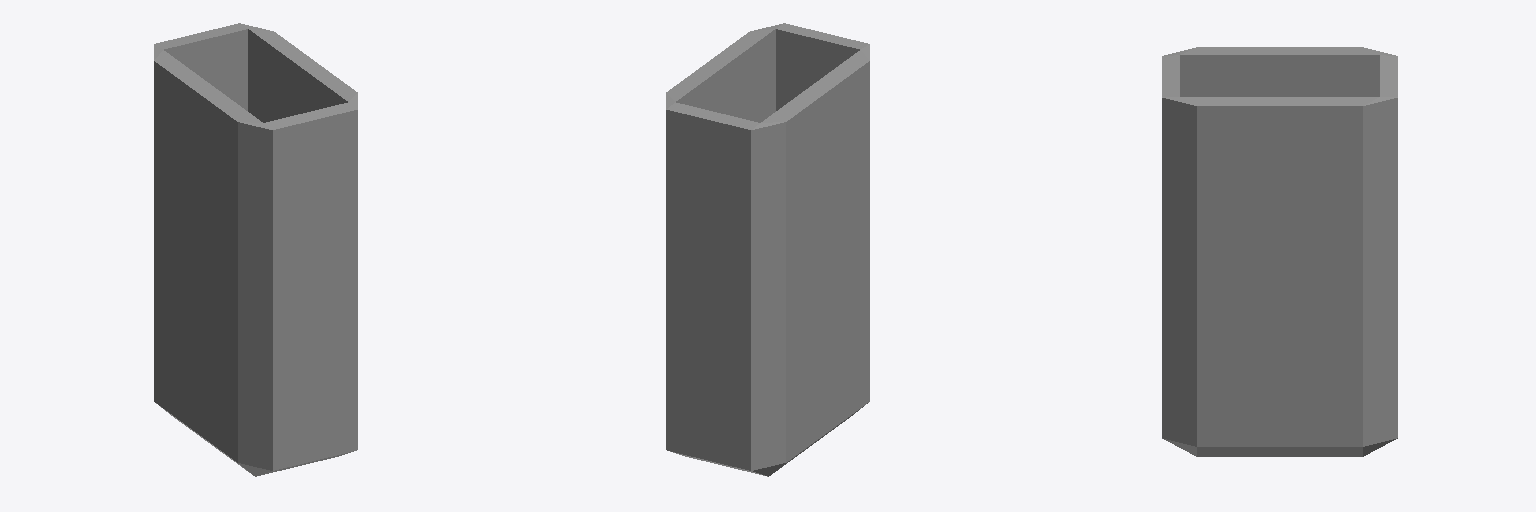
Rendered from square_vase.obj.
3 views of the same model, side by side, from view 1: azimuth 30°, elevation 25°; view 2: azimuth 150°, elevation 25°; view 3: azimuth 270°, elevation 25° (orthographic).
Parts seen in each view (by area): view 1: square.base; view 2: square.base; view 3: square.base.
Boxes of the visible parts, x1,y1,x2,y2 form: square.base: [154, 23, 357, 476]; square.base: [666, 23, 869, 476]; square.base: [1162, 47, 1397, 456].
Bounding box in the file's own units: 0.3 × 0.8578 × 0.51.